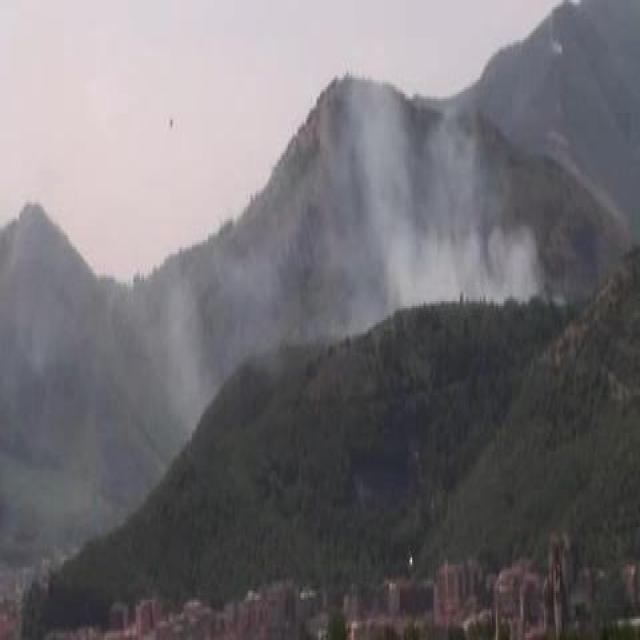Smoke: (321, 99, 539, 313)
